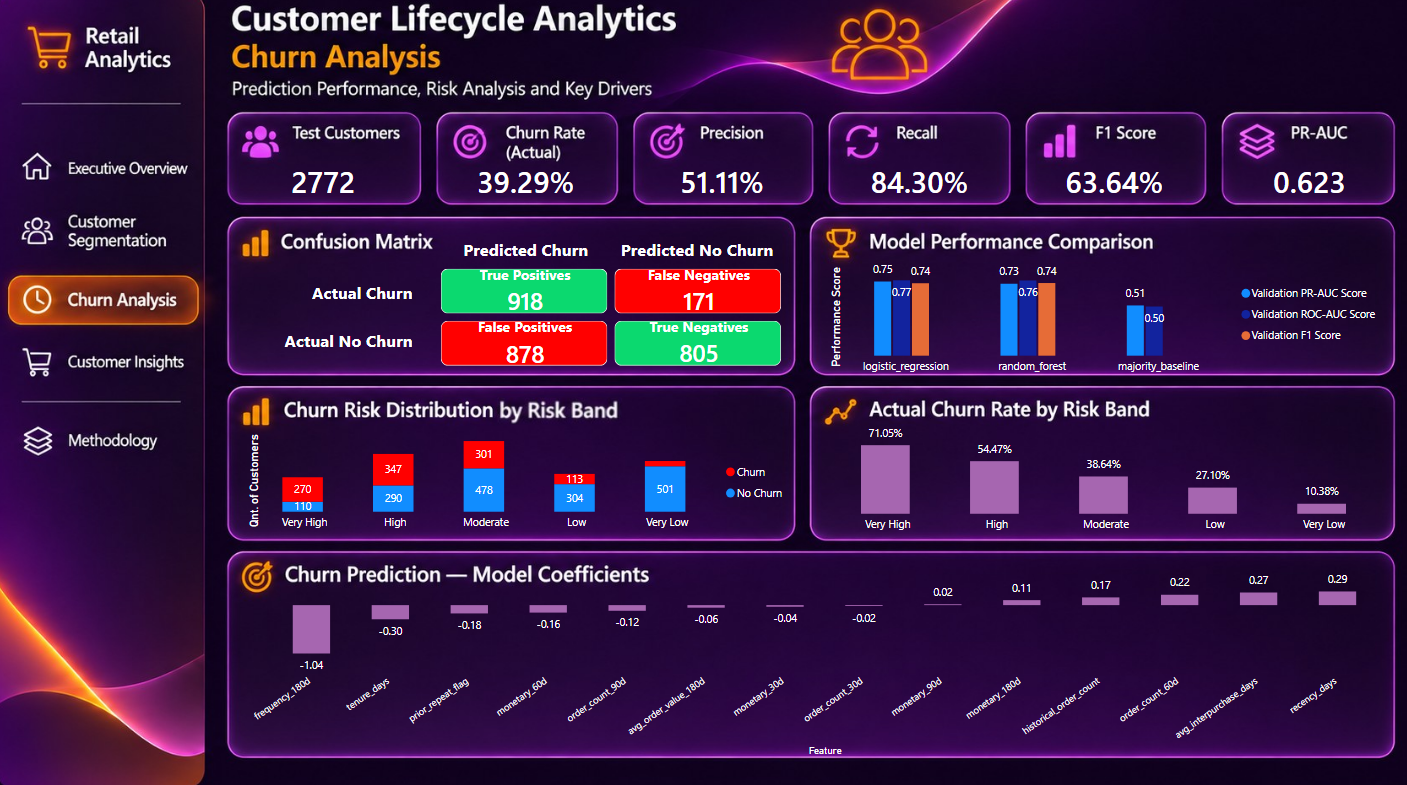

Layout of this report page (visuals, bound fields, positions):
{"tool":"powerbi","page":{"name":"Churn Analysis","canvas":[1600,900],"ordinal":2},"visuals":[{"type":"columnChart","fields":{"Category":["Churn Predictions.churn_probability"]},"box":[927.5,223.2,279,273],"z":0},{"type":"columnChart","fields":{"Category":["Churn Predictions.churn_probability"]},"box":[268.4,410.2,279,273],"z":1000},{"type":"cardVisual","fields":{"Data":["Measures-.Test Customers"]},"box":[258,182.5,224.7,54.3],"z":2000},{"type":"cardVisual","fields":{"Data":["Measures-.Actual Churn Rate"]},"box":[487,182.5,224.4,54],"z":3000},{"type":"cardVisual","fields":{"Data":["Measures-.Churn Precision"]},"box":[710,182.5,224.4,54],"z":4000},{"type":"cardVisual","fields":{"Data":["Measures-.Churn Recall"]},"box":[934,182.5,224.4,54],"z":5000},{"type":"cardVisual","fields":{"Data":["Measures-.Churn F1 Score"]},"box":[1155,182.5,224.4,54],"z":6000},{"type":"cardVisual","fields":{"Data":["Measures-.True Positives","Measures-.False Negatives","Measures-.False Positives","Measures-.True Negatives"]},"box":[503.3,308.4,386.1,110.1],"z":7000},{"type":"clusteredColumnChart","fields":{"Category":["Churn Model Validation.model"],"Y":["Measures-.Validation PR-AUC","Measures-.Validation ROC-AUC","Measures-.Validation F1 Score"]},"box":[921.4,274.5,666.6,173.4],"z":8000},{"type":"columnChart","fields":{"Category":["Churn Predictions.risk_band"],"Series":["Churn Predictions.Actual Result"],"Y":["Measures-.Customers by Churn Risk"]},"box":[266.9,479.6,648.5,146.3],"z":9000},{"type":"columnChart","fields":{"Category":["Churn Predictions.risk_band"],"Y":["Measures-.Actual Churn Rate by Risk Band"]},"box":[914.2,462,686,165.6],"z":10000},{"type":"columnChart","fields":{"Category":["Churn Feature Importance.feature"],"Y":["Sum(Churn Feature Importance.coefficient)"]},"box":[274.1,627.6,1320.5,249.1],"z":11000},{"type":"cardVisual","fields":{"Data":["Measures-.Churn PR-AUC"]},"box":[1375.3,182.5,224.4,54],"z":12000},{"type":"textbox","box":[356.6,323.7,116.1,39.2],"z":13000},{"type":"textbox","box":[325.6,377.7,164.4,39.2],"z":14000},{"type":"textbox","box":[527.8,274.5,164.4,39.2],"z":15000},{"type":"textbox","box":[707.3,274.5,206.6,39.2],"z":16000},{"type":"actionButton","box":[25.6,174.9,191.5,33.2],"z":16001},{"type":"actionButton","box":[25.6,242.8,176.4,42.2],"z":16002},{"type":"actionButton","box":[22.6,484.1,179.5,33.2],"z":16004},{"type":"actionButton","box":[25.6,398.1,191.5,33.2],"z":16005}]}

Visuals, with their boxes on the page's 1600x900 design canvas (x1, y1, x2, y2). These are canvas units, not pixel positions in the 1407x785 screenshot, which may show the page scaled, cropped or inside an application window:
columnChart - Churn Predictions.churn_probability: crop(928, 223, 1206, 496)
columnChart - Churn Predictions.churn_probability: crop(268, 410, 547, 683)
cardVisual - Measures-.Test Customers: crop(258, 182, 483, 237)
cardVisual - Measures-.Actual Churn Rate: crop(487, 182, 711, 236)
cardVisual - Measures-.Churn Precision: crop(710, 182, 934, 236)
cardVisual - Measures-.Churn Recall: crop(934, 182, 1158, 236)
cardVisual - Measures-.Churn F1 Score: crop(1155, 182, 1379, 236)
cardVisual - Measures-.True Positives x Measures-.False Negatives: crop(503, 308, 889, 418)
clusteredColumnChart - Churn Model Validation.model x Measures-.Validation PR-AUC: crop(921, 274, 1588, 448)
columnChart - Churn Predictions.risk_band x Churn Predictions.Actual Result: crop(267, 480, 915, 626)
columnChart - Churn Predictions.risk_band x Measures-.Actual Churn Rate by Risk Band: crop(914, 462, 1600, 628)
columnChart - Churn Feature Importance.feature x Sum(Churn Feature Importance.coefficient): crop(274, 628, 1595, 877)
cardVisual - Measures-.Churn PR-AUC: crop(1375, 182, 1600, 236)
textbox: crop(357, 324, 473, 363)
textbox: crop(326, 378, 490, 417)
textbox: crop(528, 274, 692, 314)
textbox: crop(707, 274, 914, 314)
actionButton: crop(26, 175, 217, 208)
actionButton: crop(26, 243, 202, 285)
actionButton: crop(23, 484, 202, 517)
actionButton: crop(26, 398, 217, 431)
